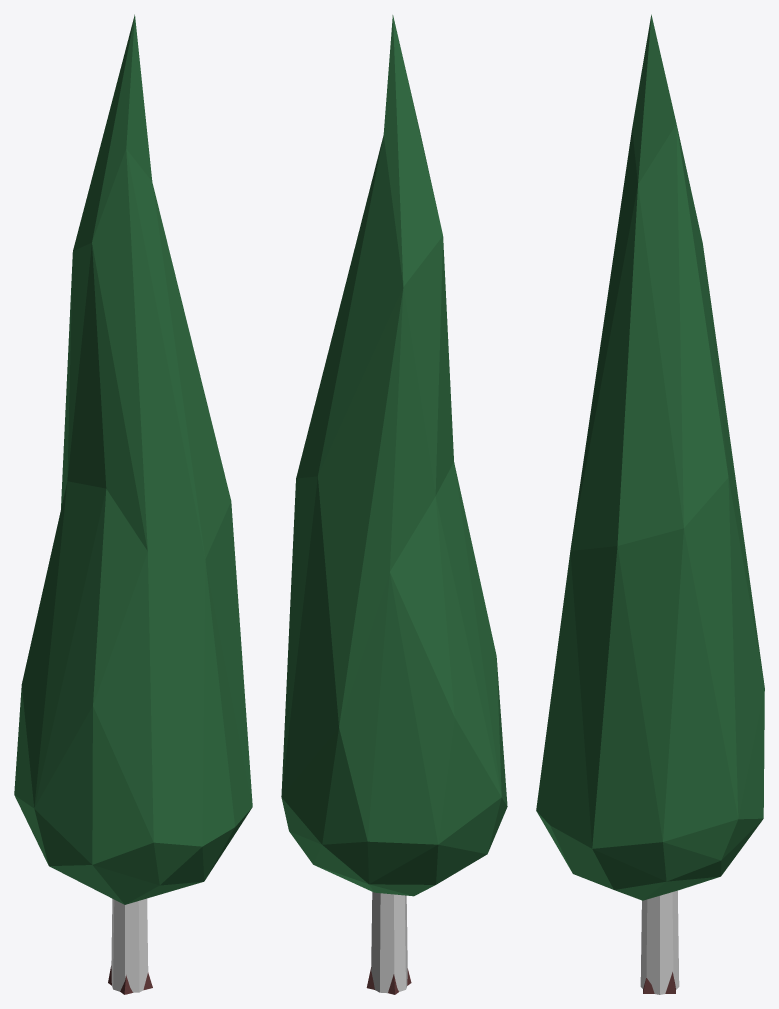
The model's file is floresta_tree_cypress_large.glb.
3 renders of one model, left to right at view 1: azimuth 30°, elevation 25°; view 2: azimuth 150°, elevation 25°; view 3: azimuth 270°, elevation 25°, orthographic.
Parts seen in each view (by area): view 1: Cypress big f, Colisao; view 2: Cypress big f, Colisao; view 3: Cypress big f, Colisao.
Boxes of the visible parts, left/top/right/bottom form: Cypress big f: left=14, top=14, right=252, bottom=994; Colisao: left=111, top=898, right=148, bottom=992; Cypress big f: left=281, top=15, right=507, bottom=994; Colisao: left=371, top=892, right=407, bottom=993; Cypress big f: left=536, top=14, right=764, bottom=993; Colisao: left=640, top=890, right=679, bottom=994.
Size of the model in its own units: 4.01 by 18.16 by 3.87.
